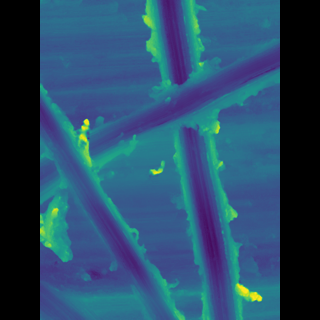Loch: (69, 34, 250, 207), (70, 81, 175, 319), (149, 0, 224, 320)
